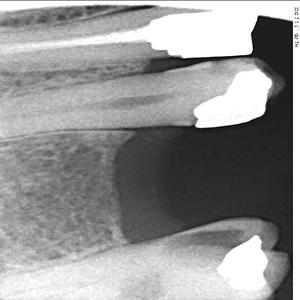tooth: (0, 217, 288, 299), (0, 58, 285, 132), (0, 6, 261, 60)
